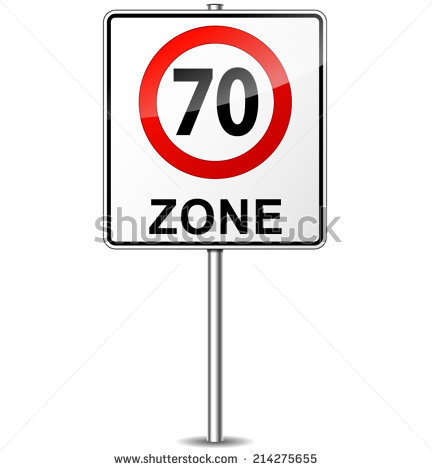Speed_limit_70km: (137, 24, 292, 178)
